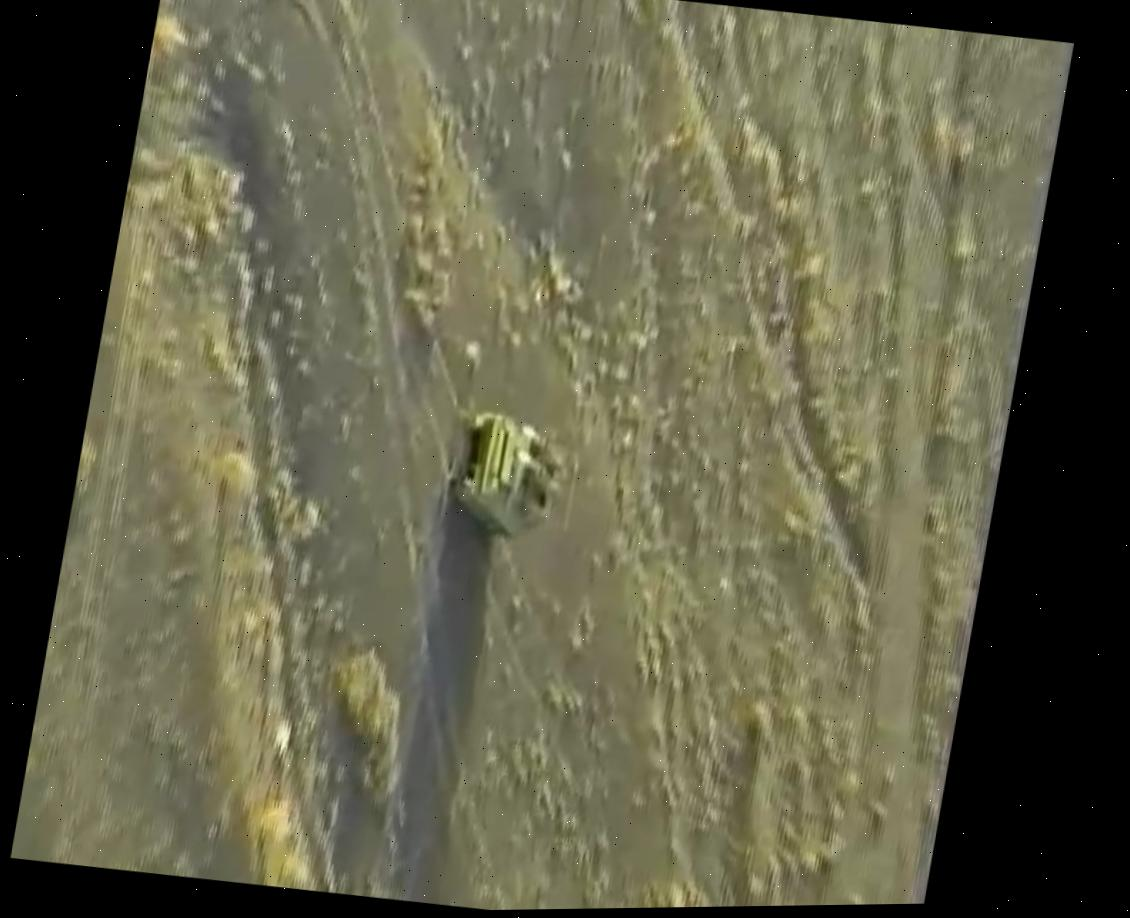armored_car: (444, 408, 581, 550)
